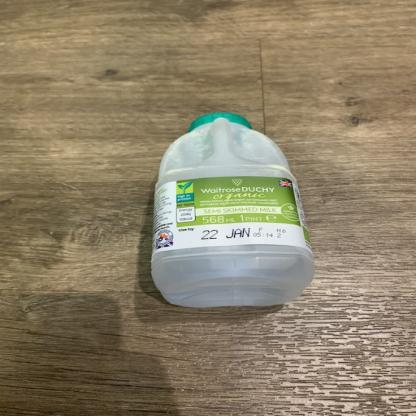trash: (144, 115, 306, 314)
